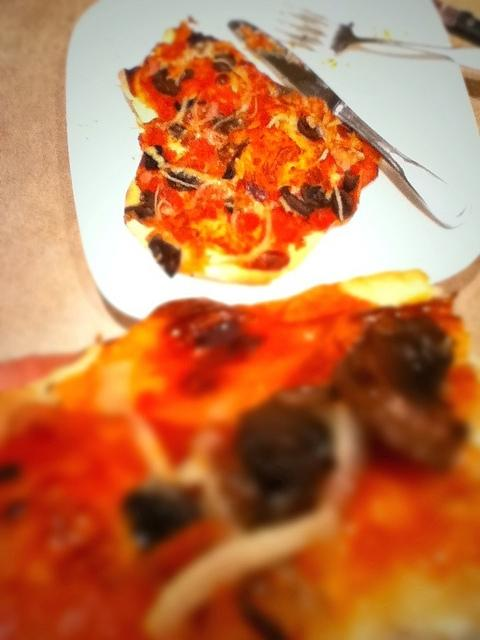onion: (145, 401, 366, 640), (170, 462, 244, 534), (124, 406, 174, 478), (219, 202, 272, 262), (212, 58, 252, 105), (211, 94, 253, 130), (156, 96, 188, 131), (118, 85, 144, 125), (159, 170, 199, 190), (332, 180, 344, 222), (145, 146, 166, 170), (157, 199, 172, 219), (318, 148, 330, 163)
